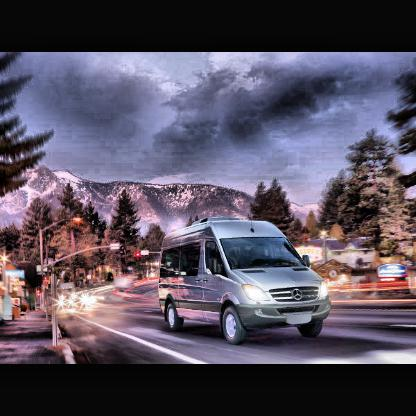Mercedes-Benz Sprinter Van 2012: (156, 220, 332, 345)
